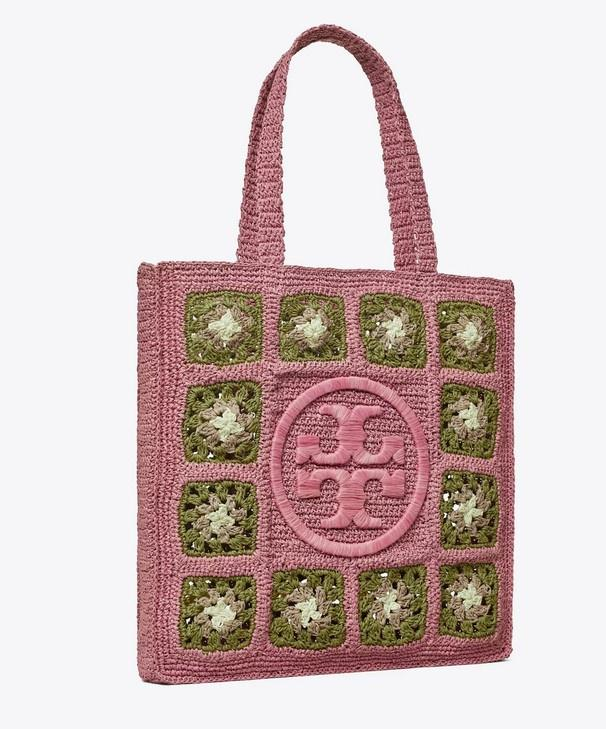TORY-BURCH: (270, 377, 430, 556)
